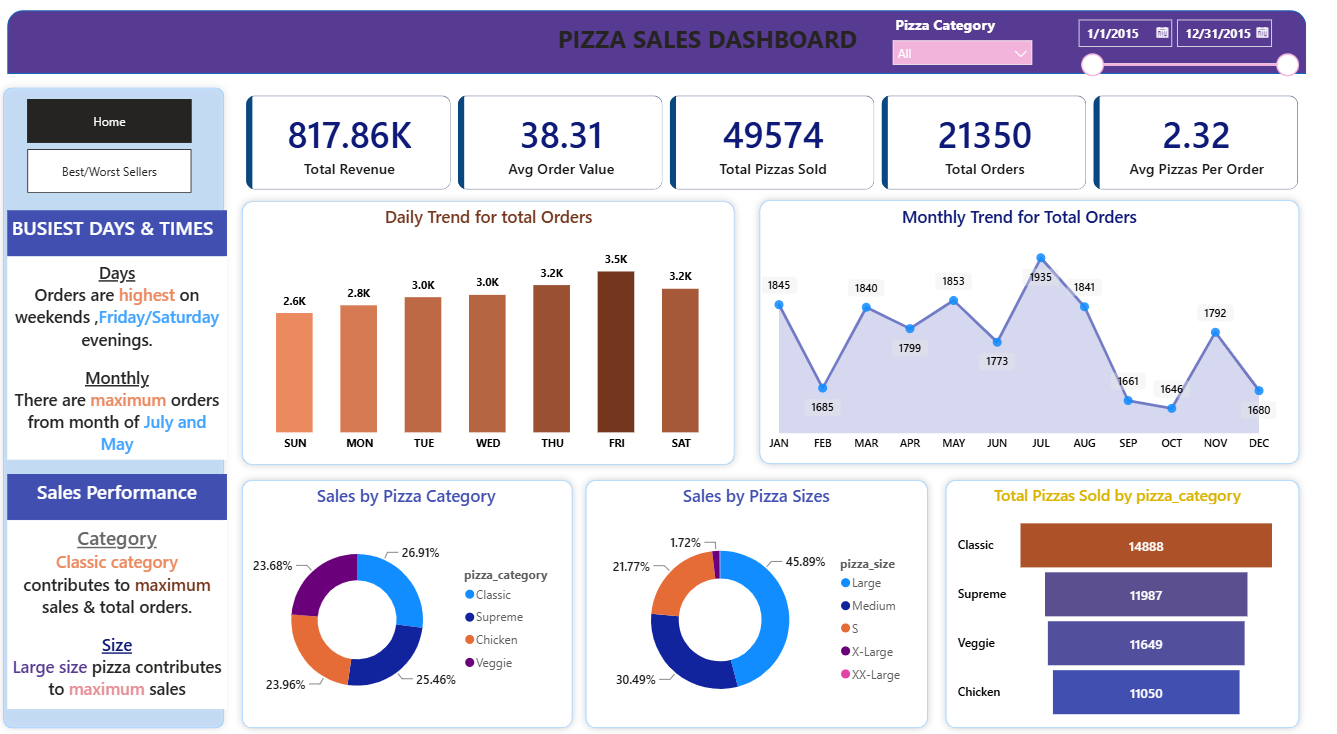

The dashboard page shown, as its layout file describes it:
{"tool":"powerbi","page":{"name":"Home","canvas":[1500,820],"ordinal":0},"visuals":[{"type":"cardVisual","fields":{"Data":["pizza_sales.Total Revenue","pizza_sales.Avg Order Value","pizza_sales.Total Pizzas Sold","pizza_sales.Total Orders","pizza_sales.Avg Pizzas Per Order"]},"box":[262.1,90.1,1209.3,139.9],"z":0},{"type":"shape","box":[12.9,12.9,1447.3,71],"z":1000},{"type":"textbox","box":[598.2,20.9,387.5,49.9],"z":2000},{"type":"shape","box":[265.3,217.1,565,310],"z":3000},{"type":"columnChart","title":"Daily Trend for total Orders","fields":{"Category":["pizza_sales.Order day"],"Y":["pizza_sales.Total Orders"]},"box":[278.2,230,540.3,283],"z":4000},{"type":"shape","box":[842.6,215.5,617.5,310.4],"z":5000},{"type":"areaChart","title":"Monthly Trend for Total Orders","fields":{"Y":["pizza_sales.Total Orders"],"Category":["pizza_sales.Order Month"]},"box":[847.5,230,583.7,283],"z":6000},{"type":"shape","box":[265.3,527.4,384.3,292.7],"z":7000},{"type":"shape","box":[649.7,527.4,397.2,292.7],"z":8000},{"type":"shape","box":[1050.1,527.4,410.1,292.7],"z":9000},{"type":"donutChart","title":"% of Sales by Pizza Category","fields":{"Category":["pizza_sales.pizza_category"],"Y":["pizza_sales.Total Revenue"]},"box":[278.2,540.3,357,266.9],"z":10000},{"type":"donutChart","title":"% of Sales by Pizza Sizes","fields":{"Y":["pizza_sales.Total Revenue"],"Category":["pizza_sales.pizza_size"]},"box":[669,540.3,357,266.9],"z":11000},{"type":"shape","box":[0,90.1,262.1,730.1],"z":12000},{"type":"textbox","box":[12.9,234.8,244.4,51.5],"z":13000},{"type":"funnel","fields":{"Category":["pizza_sales.pizza_category"],"Y":["pizza_sales.Total Pizzas Sold"]},"box":[1066.1,540.3,365,266.9],"z":14000},{"type":"textbox","box":[12.9,286.2,244.4,226.7],"z":15000},{"type":"textbox","box":[12.9,529.1,244.4,51.5],"z":16000},{"type":"textbox","box":[12.9,580.5,244.4,210.7],"z":17000},{"type":"slicer","fields":{"Values":["pizza_sales.pizza_category"]},"box":[989,12.9,175.3,64.3],"z":18000},{"type":"slicer","fields":{"Values":["pizza_sales.order_date"]},"box":[1193.2,12.9,266.9,77.2],"z":19000},{"type":"pageNavigator","box":[35.4,167.2,183.3,49.9],"z":20000},{"type":"pageNavigator","box":[35.4,111,183.3,49.9],"z":21000}]}

Visuals, with their boxes in screenshot pixels (x1, y1, x2, y2), scaled from the page's 1500x820 canvas onto the 1337x734 screenshot:
cardVisual - pizza_sales.Total Revenue x pizza_sales.Avg Order Value: bbox=[234, 81, 1312, 206]
shape: bbox=[11, 12, 1302, 75]
textbox: bbox=[533, 19, 879, 63]
shape: bbox=[236, 194, 740, 472]
"Daily Trend for total Orders" columnChart: bbox=[248, 206, 730, 459]
shape: bbox=[751, 193, 1301, 471]
"Monthly Trend for Total Orders" areaChart: bbox=[755, 206, 1276, 459]
shape: bbox=[236, 472, 579, 733]
shape: bbox=[579, 472, 933, 733]
shape: bbox=[936, 472, 1302, 733]
"% of Sales by Pizza Category" donutChart: bbox=[248, 484, 566, 723]
"% of Sales by Pizza Sizes" donutChart: bbox=[596, 484, 915, 723]
shape: bbox=[0, 81, 234, 733]
textbox: bbox=[11, 210, 229, 256]
funnel - pizza_sales.pizza_category x pizza_sales.Total Pizzas Sold: bbox=[950, 484, 1276, 723]
textbox: bbox=[11, 256, 229, 459]
textbox: bbox=[11, 474, 229, 520]
textbox: bbox=[11, 520, 229, 708]
slicer - pizza_sales.pizza_category: bbox=[882, 12, 1038, 69]
slicer - pizza_sales.order_date: bbox=[1064, 12, 1301, 81]
pageNavigator: bbox=[32, 150, 195, 194]
pageNavigator: bbox=[32, 99, 195, 144]
